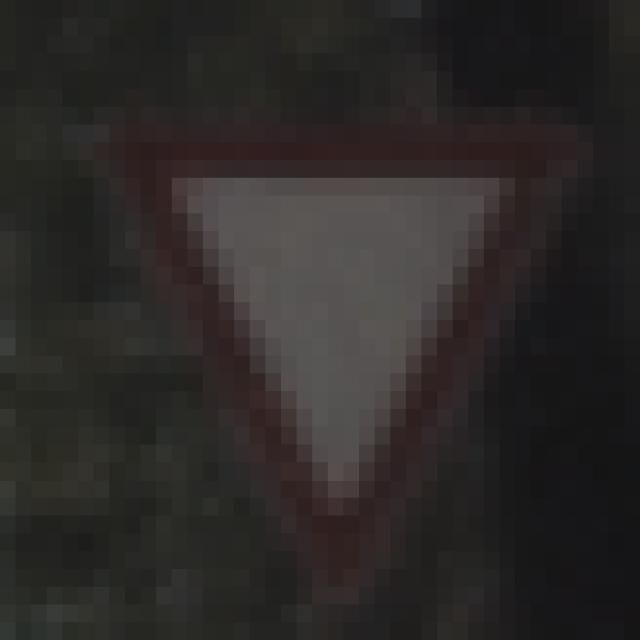Give Way: (95, 90, 563, 552)
